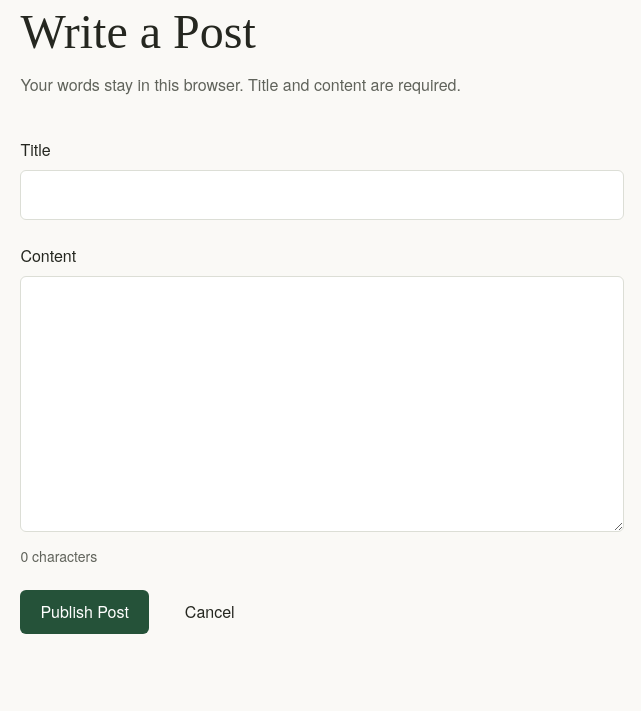
Test: authoring routes and form › reports both required fields with associated errors and no mutation on blank submission
This screenshot has width=641, height=711.
(page scrolled)
Step 1. Click the button "Publish Post" → [85, 612], box [20,590,149,634]
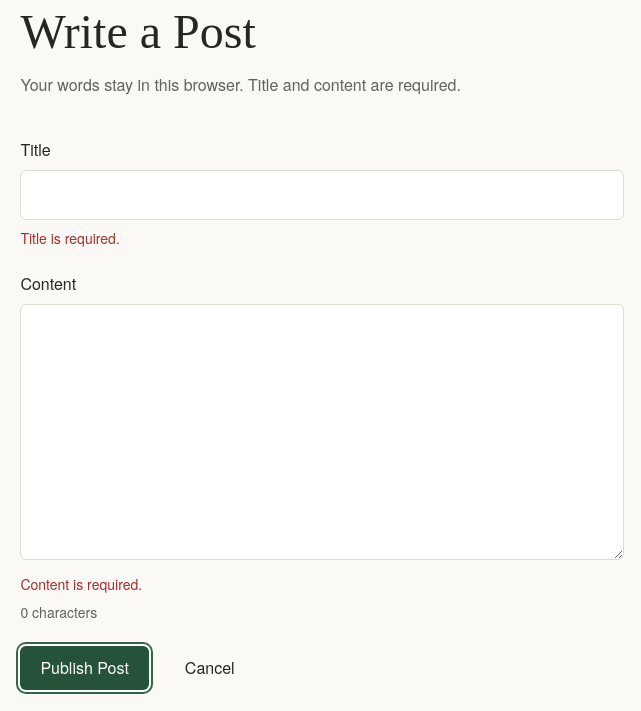
Result: the number of messages is 2 at [20,228,120,248]; [20,574,142,594]
